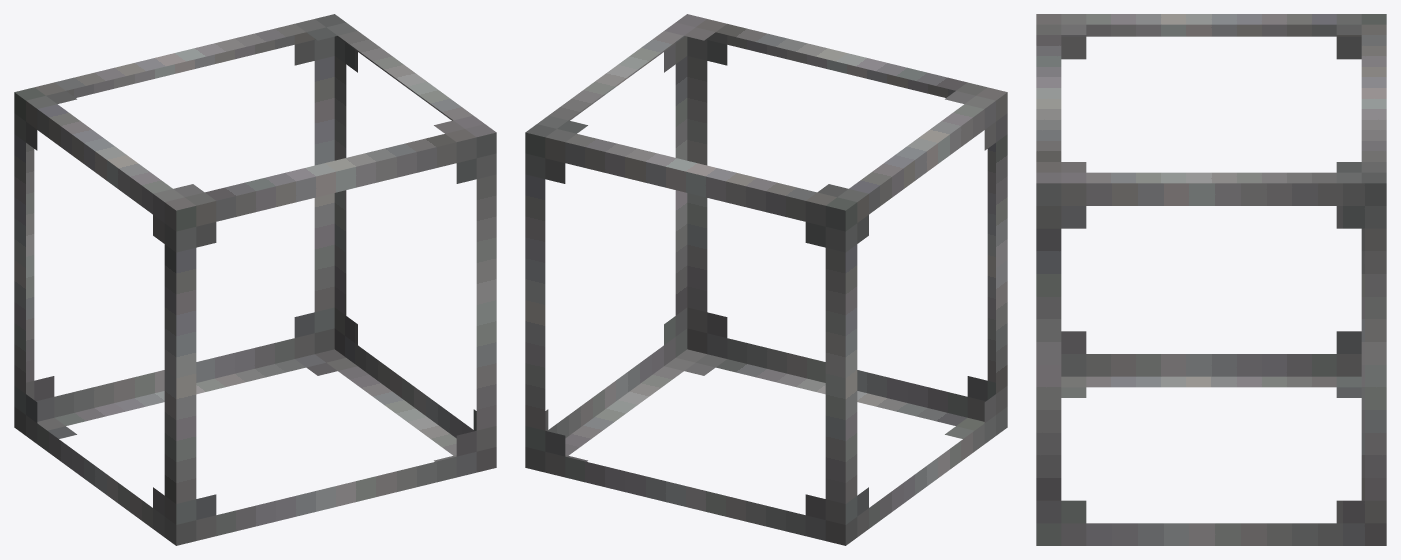
The model's file is reinforced_locker_frame.obj.
3 views of the same model, side by side, from view 1: azimuth 30°, elevation 25°; view 2: azimuth 150°, elevation 25°; view 3: azimuth 270°, elevation 25° (orthographic). The views are drawn at different scales.
Parts seen in each view (by area): view 1: reinforced_locker_frame; view 2: reinforced_locker_frame; view 3: reinforced_locker_frame.
Part boxes in pixels (<box>): reinforced_locker_frame: <box>14,14,496,545</box>; reinforced_locker_frame: <box>525,14,1007,545</box>; reinforced_locker_frame: <box>1036,14,1386,545</box>.
Size of the model in its own units: 1 by 1 by 0.875.
